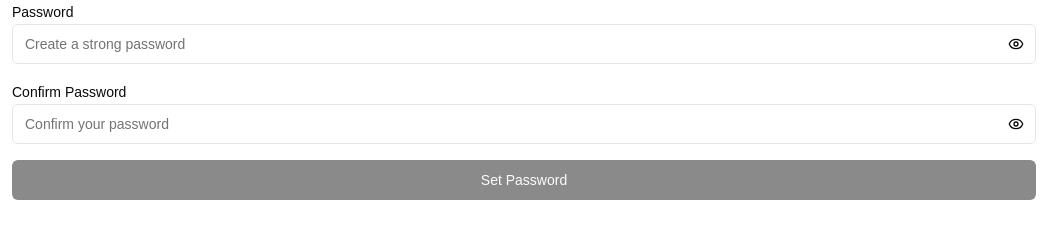
Test: SetPasswordForm Integration › disables password toggles when form is loading
Note: Enter valid passwords
Step 1. Type "StrongPass123!" into the password field labelled "Password" → (524, 44), box [12, 24, 1036, 64]
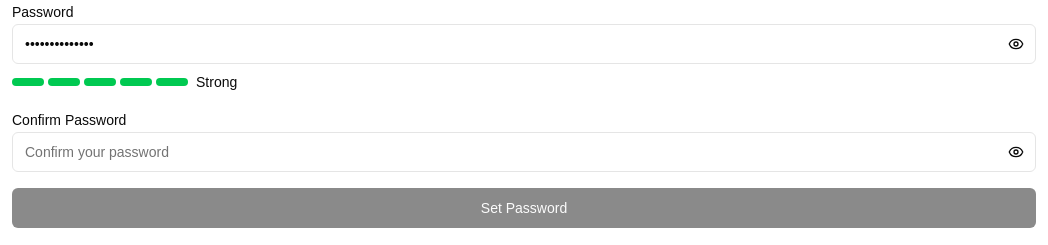
Step 2. Type "StrongPass123!" into the password field labelled "Confirm Password" → (524, 152), box [12, 132, 1036, 172]
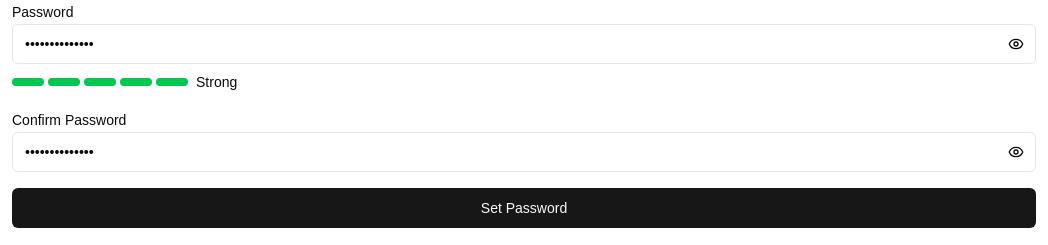
Note: Submit form
Step 3. Click the button "Set Password" → click(524, 208), box [12, 188, 1036, 228]
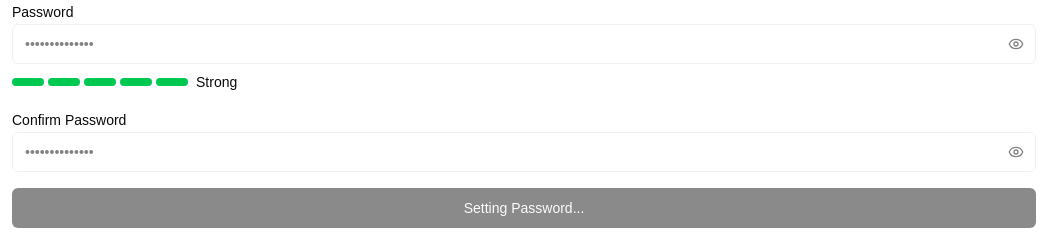
Expected: the 1st button named "show password" is disabled, [996, 24, 1036, 64]
Expected: the 2nd button named "show password" is disabled, [996, 132, 1036, 172]
